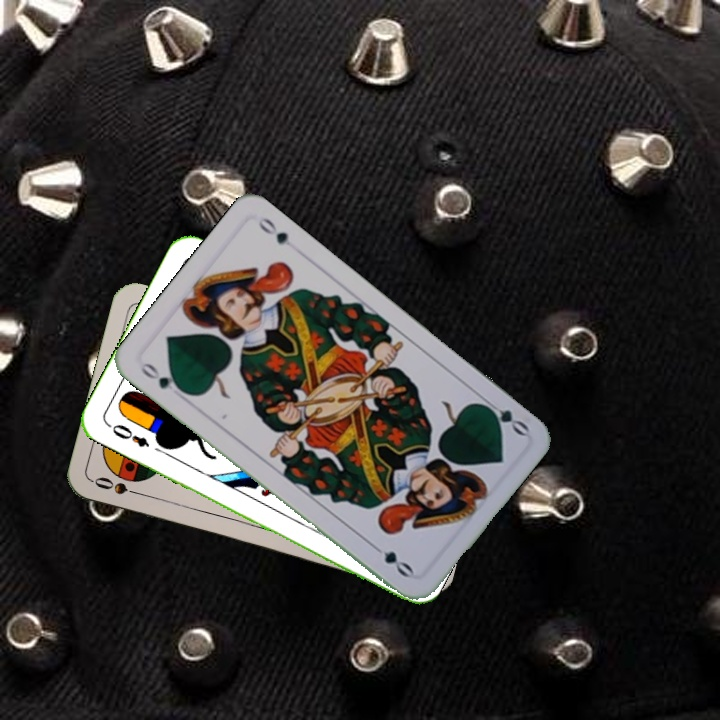EO: (103, 420, 152, 450)
GO: (477, 394, 531, 439), (136, 358, 189, 396)
SO: (90, 472, 148, 499)
